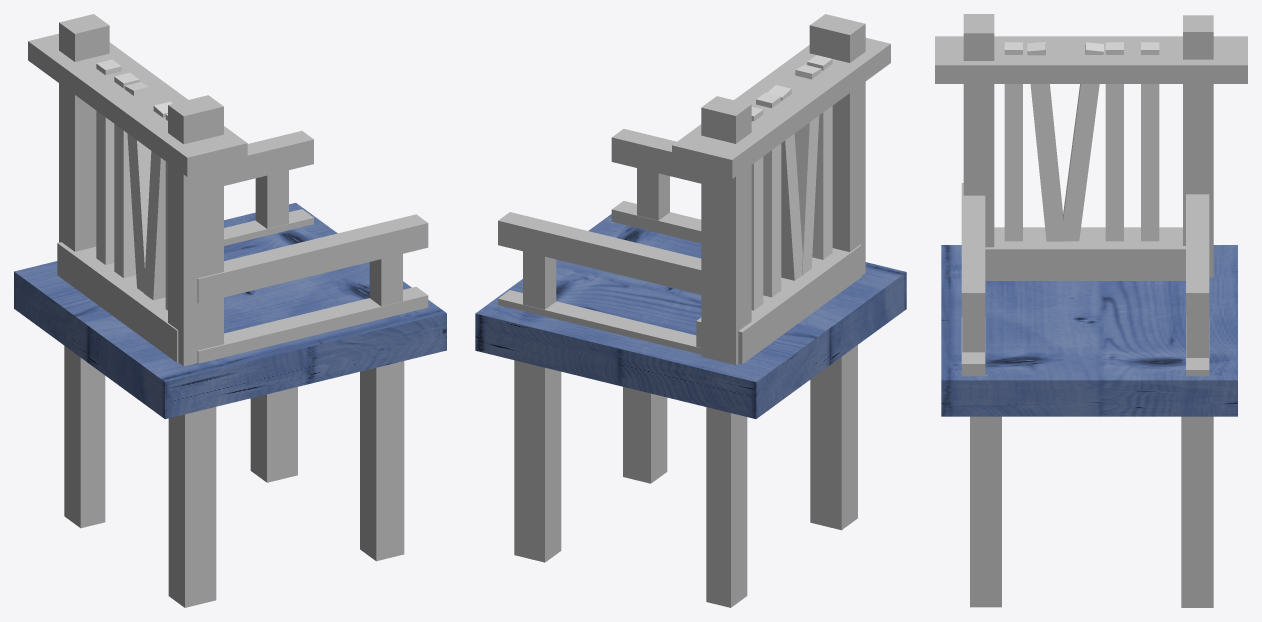
Rendered from Chair1.fbx.
3 renders of one model, left to right at view 1: azimuth 30°, elevation 25°; view 2: azimuth 150°, elevation 25°; view 3: azimuth 270°, elevation 25°, orthographic.
Visible parts, largest first — view 1: Cube.004, Cube.005, Cube.011, Cube, Cube.002, Cube.013, Cube.006, Cube.001, Cube.016, Cube.018, Cube.003, Cube.007 (+7 smaller); view 2: Cube.004, Cube.006, Cube.011, Cube.003, Cube.001, Cube, Cube.005, Cube.015, Cube.016, Cube.002, Cube.019, Cube.008 (+8 smaller); view 3: Cube.004, Cube.011, Cube.016, Cube.003, Cube.002, Cube.005, Cube.006, Cube.010, Cube.009, Cube.007, Cube.008, Cube.017 (+6 smaller).
Boxes of the visible parts, left/top/right/bottom form: Cube.004: left=14, top=203, right=446, bottom=419; Cube.005: left=168, top=95, right=223, bottom=366; Cube.011: left=28, top=33, right=247, bottom=176; Cube: left=168, top=407, right=216, bottom=607; Cube.002: left=360, top=361, right=404, bottom=561; Cube.013: left=197, top=214, right=428, bottom=303; Cube.006: left=59, top=14, right=109, bottom=251; Cube.001: left=64, top=346, right=105, bottom=528; Cube.016: left=57, top=242, right=178, bottom=362; Cube.018: left=197, top=286, right=428, bottom=363; Cube.003: left=250, top=387, right=297, bottom=482; Cube.007: left=96, top=59, right=121, bottom=264; Cube.004: left=475, top=214, right=906, bottom=418; Cube.006: left=701, top=96, right=751, bottom=364; Cube.011: left=672, top=37, right=890, bottom=178; Cube.003: left=514, top=360, right=561, bottom=562; Cube.001: left=706, top=407, right=747, bottom=607; Cube: left=810, top=345, right=857, bottom=530; Cube.005: left=809, top=14, right=865, bottom=275; Cube.015: left=498, top=212, right=701, bottom=294; Cube.016: left=696, top=244, right=861, bottom=364; Cube.002: left=623, top=387, right=667, bottom=483; Cube.019: left=498, top=290, right=701, bottom=354; Cube.008: left=756, top=92, right=781, bottom=297; Cube.004: left=941, top=245, right=1237, bottom=416; Cube.011: left=935, top=36, right=1247, bottom=83; Cube.016: left=985, top=227, right=1185, bottom=280; Cube.003: left=1181, top=416, right=1213, bottom=607; Cube.002: left=970, top=416, right=1001, bottom=607; Cube.005: left=963, top=14, right=994, bottom=247; Cube.006: left=1183, top=15, right=1213, bottom=277; Cube.010: left=1027, top=42, right=1064, bottom=241; Cube.009: left=1063, top=42, right=1103, bottom=241; Cube.007: left=1141, top=42, right=1159, bottom=241; Cube.008: left=1105, top=42, right=1123, bottom=241; Cube.017: left=1004, top=42, right=1022, bottom=241.
Size of the model in its own units: 241 by 404 by 236.
